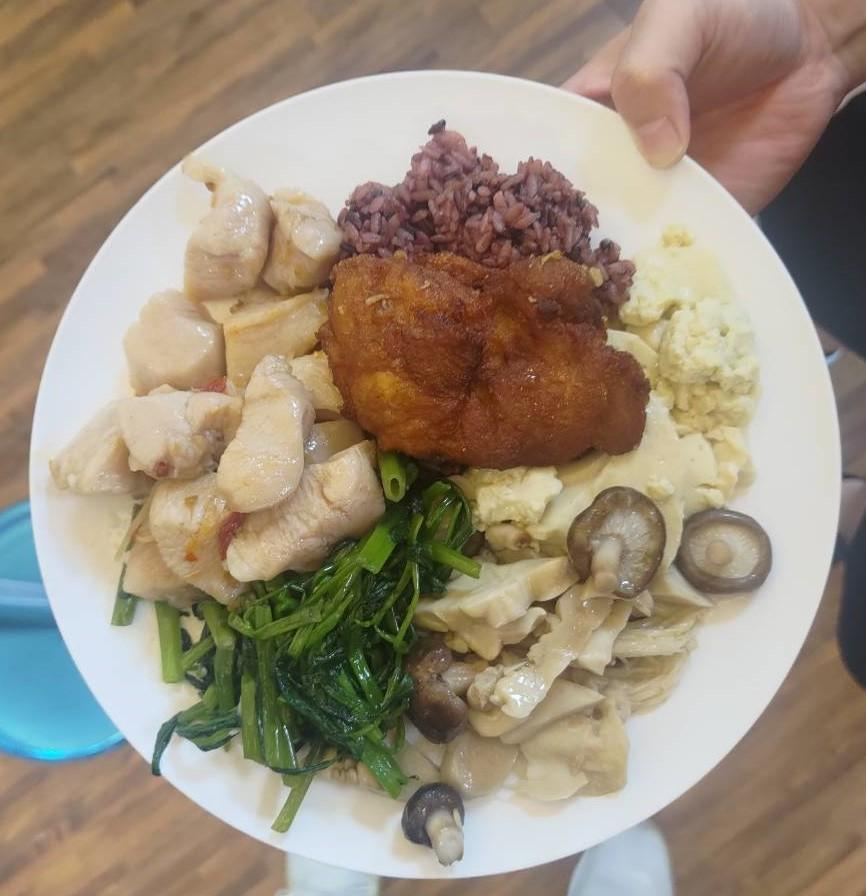big fried chicken leg: (18, 54, 851, 885)
braised fish: (328, 116, 609, 256)
braised fish fillet: (403, 502, 774, 871), (170, 469, 477, 776), (473, 244, 750, 549)
braised pork: (57, 174, 379, 597), (324, 242, 651, 468)
